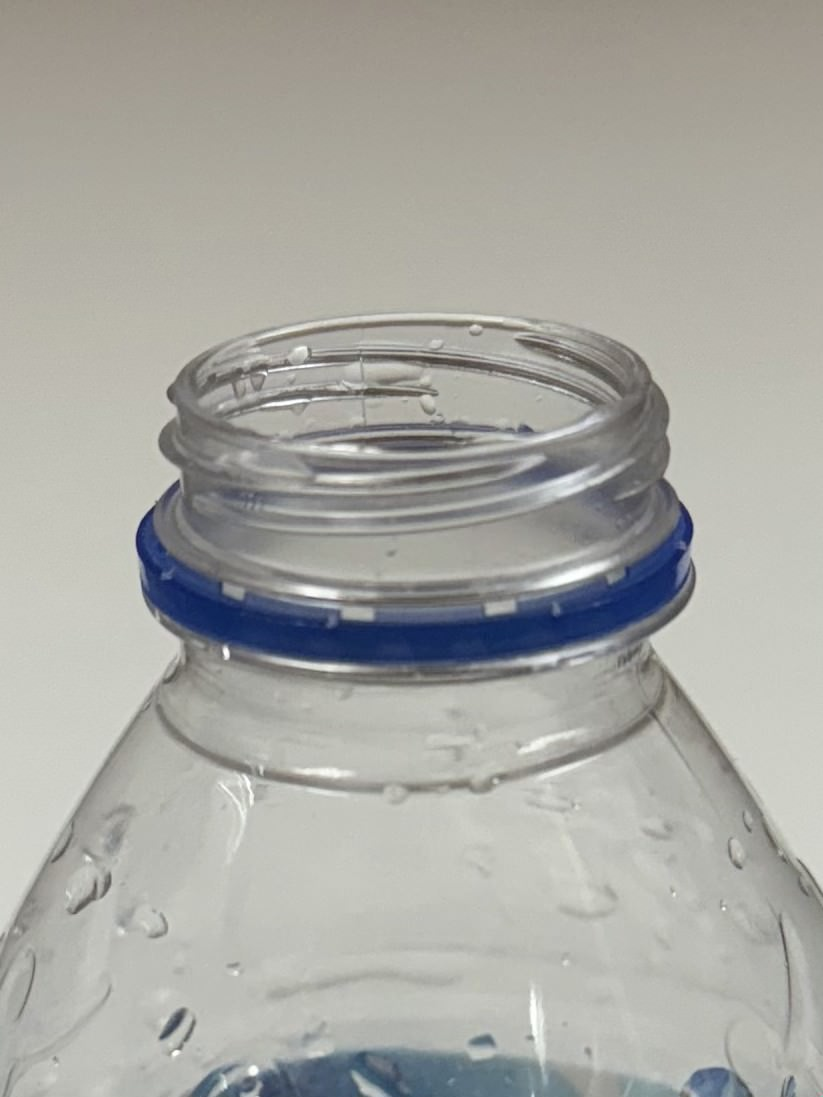no_cap: (129, 301, 704, 689)
